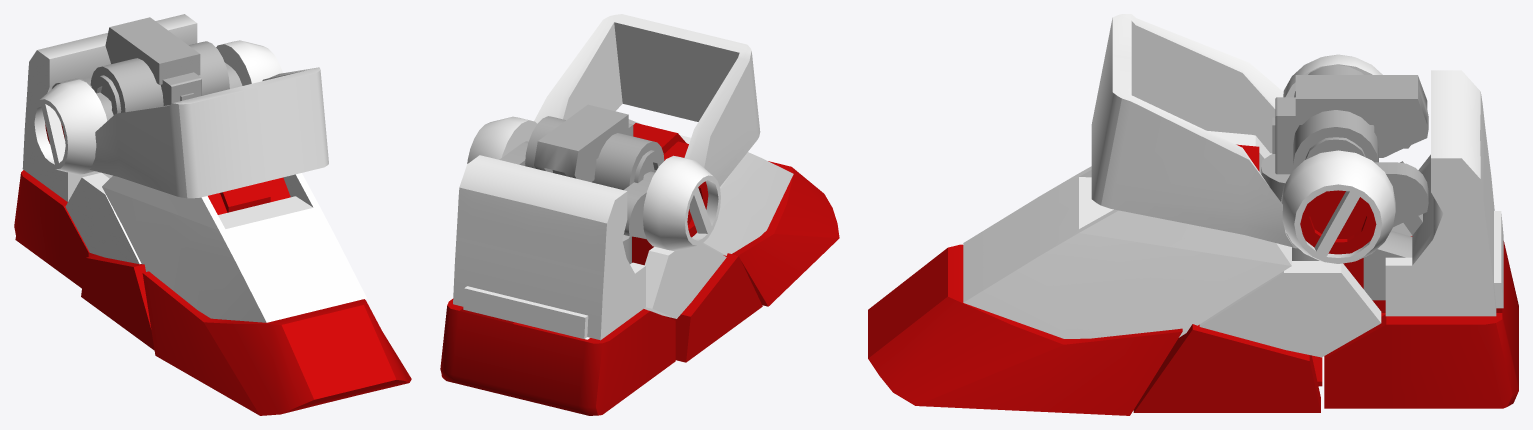
The model's file is leftfoot.fbx.
3 views of the same model, side by side, from view 1: azimuth 30°, elevation 25°; view 2: azimuth 150°, elevation 25°; view 3: azimuth 270°, elevation 25° (orthographic). The views are drawn at different scales.
Visible parts, largest first — view 1: leftfoot; view 2: leftfoot; view 3: leftfoot.
Boxes of the visible parts, x1,y1,x2,y2 form: leftfoot: [14, 14, 411, 415]; leftfoot: [440, 14, 839, 415]; leftfoot: [868, 14, 1518, 415].
Size of the model in its own units: 397 by 435 by 842.
